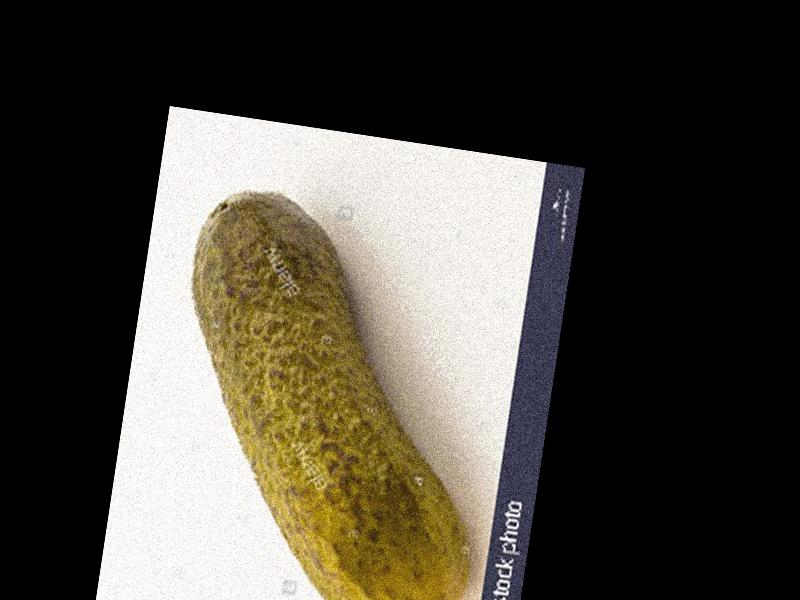Cucumber: (143, 183, 518, 600)
